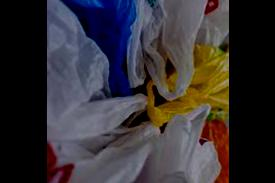Plastic: (122, 0, 211, 104)
